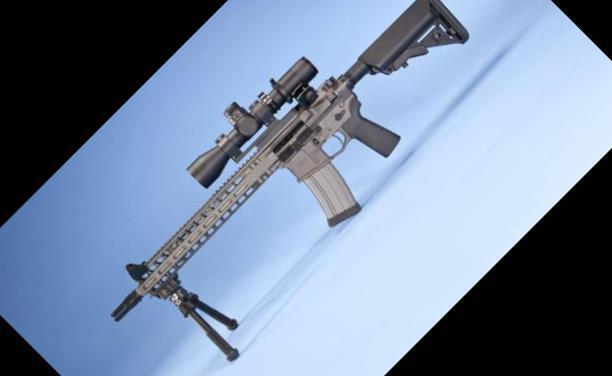larga: (111, 0, 470, 361)
